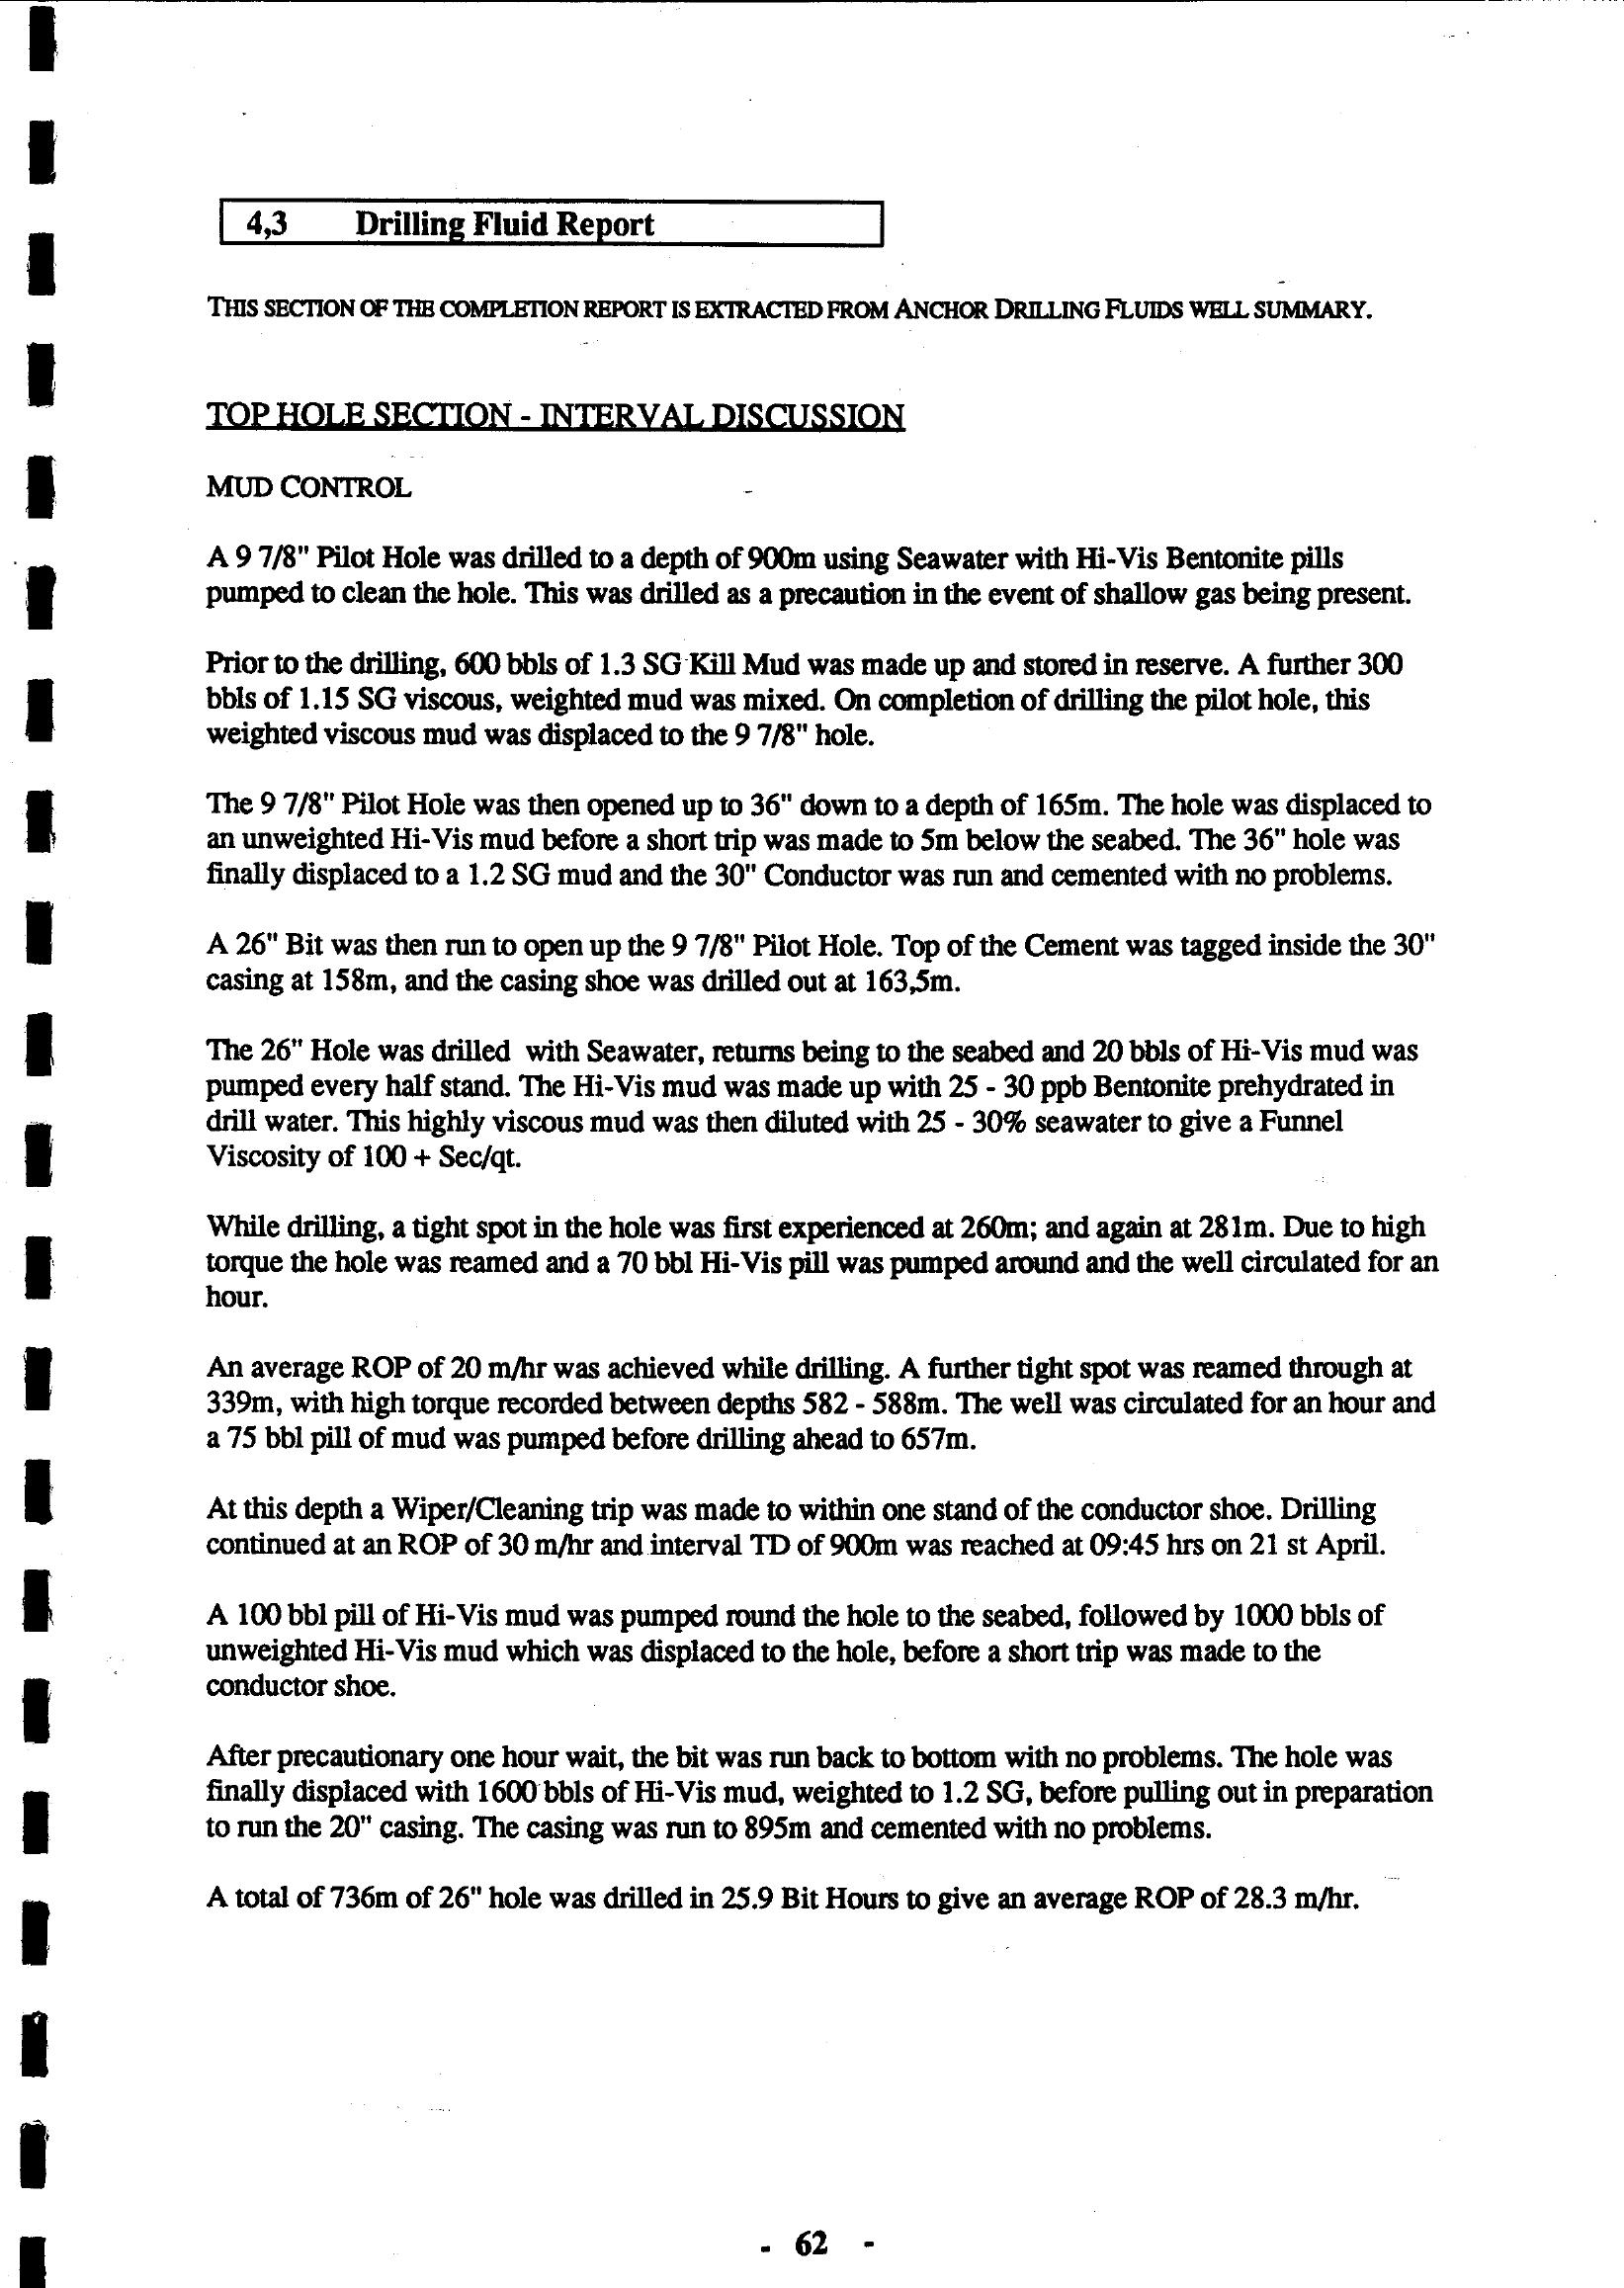text: (167, 163, 1475, 1937)
